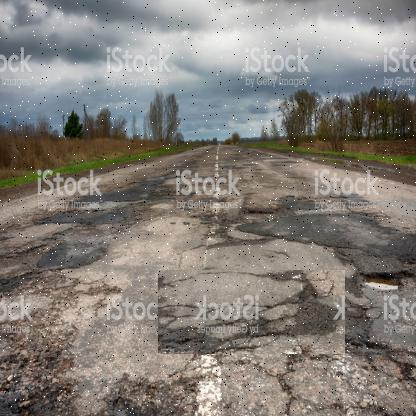crack: (257, 332, 416, 394)
damage: (158, 270, 346, 355), (192, 198, 298, 252)
pothole: (348, 260, 416, 295)
